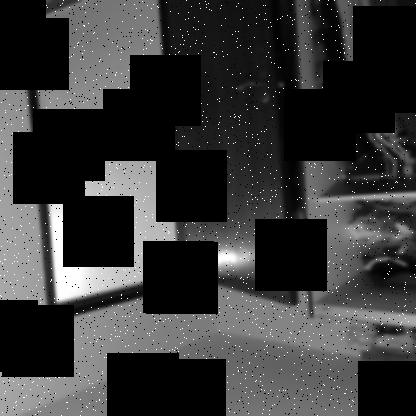Porte: (19, 1, 300, 325)
